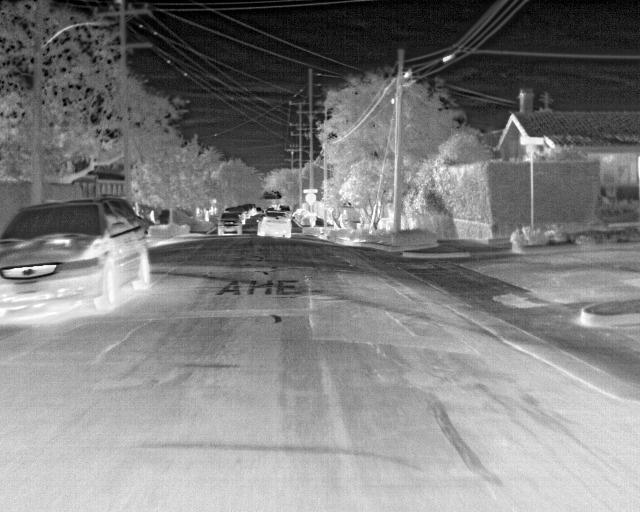car: (0, 194, 152, 313), (257, 209, 292, 238), (218, 212, 241, 235), (227, 205, 245, 224), (234, 203, 250, 218), (245, 203, 257, 217)
